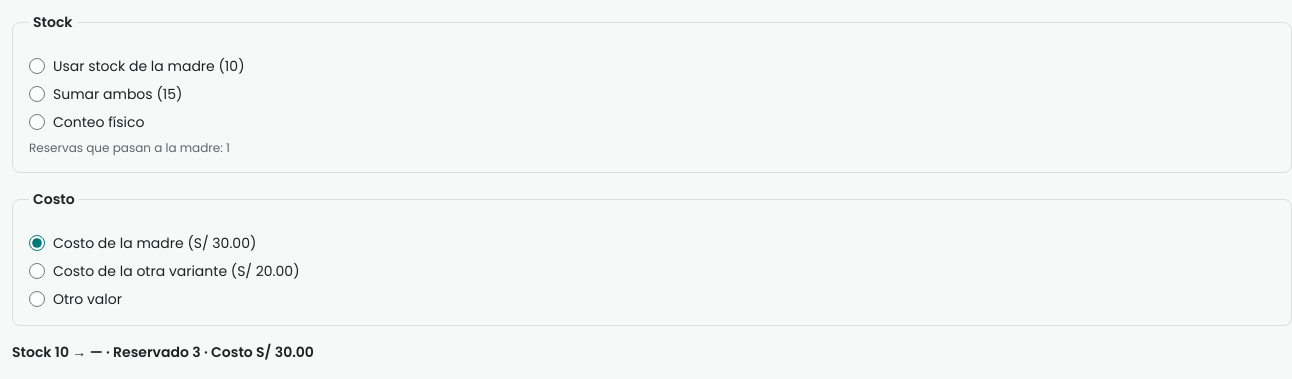
Test: ReconciliationMergeStockCostStep › resumen con stock antes → después, reservado y costo
The width and height of the screenshot is (1292, 379).
Click the radio button labelled "Sumar ambos (15)": (37,94) [29, 86, 45, 102]
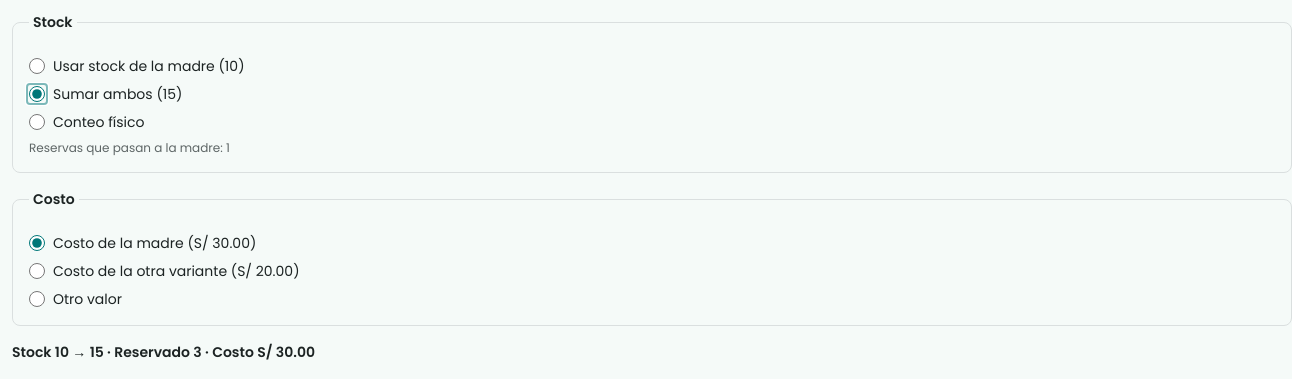
Check: the text with test id "merge-summary" reads "Stock 10 → 15 · Reservado 3 · Costo S/ 30.00", box [12, 342, 315, 362]
